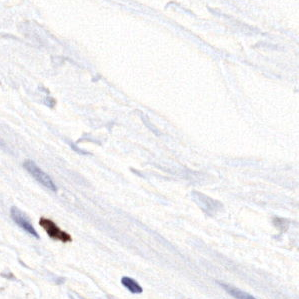Lymphocyte: (37, 215, 74, 243)
